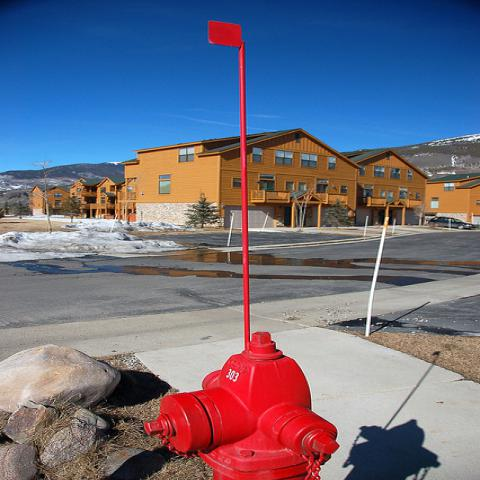car: (428, 216, 478, 229)
